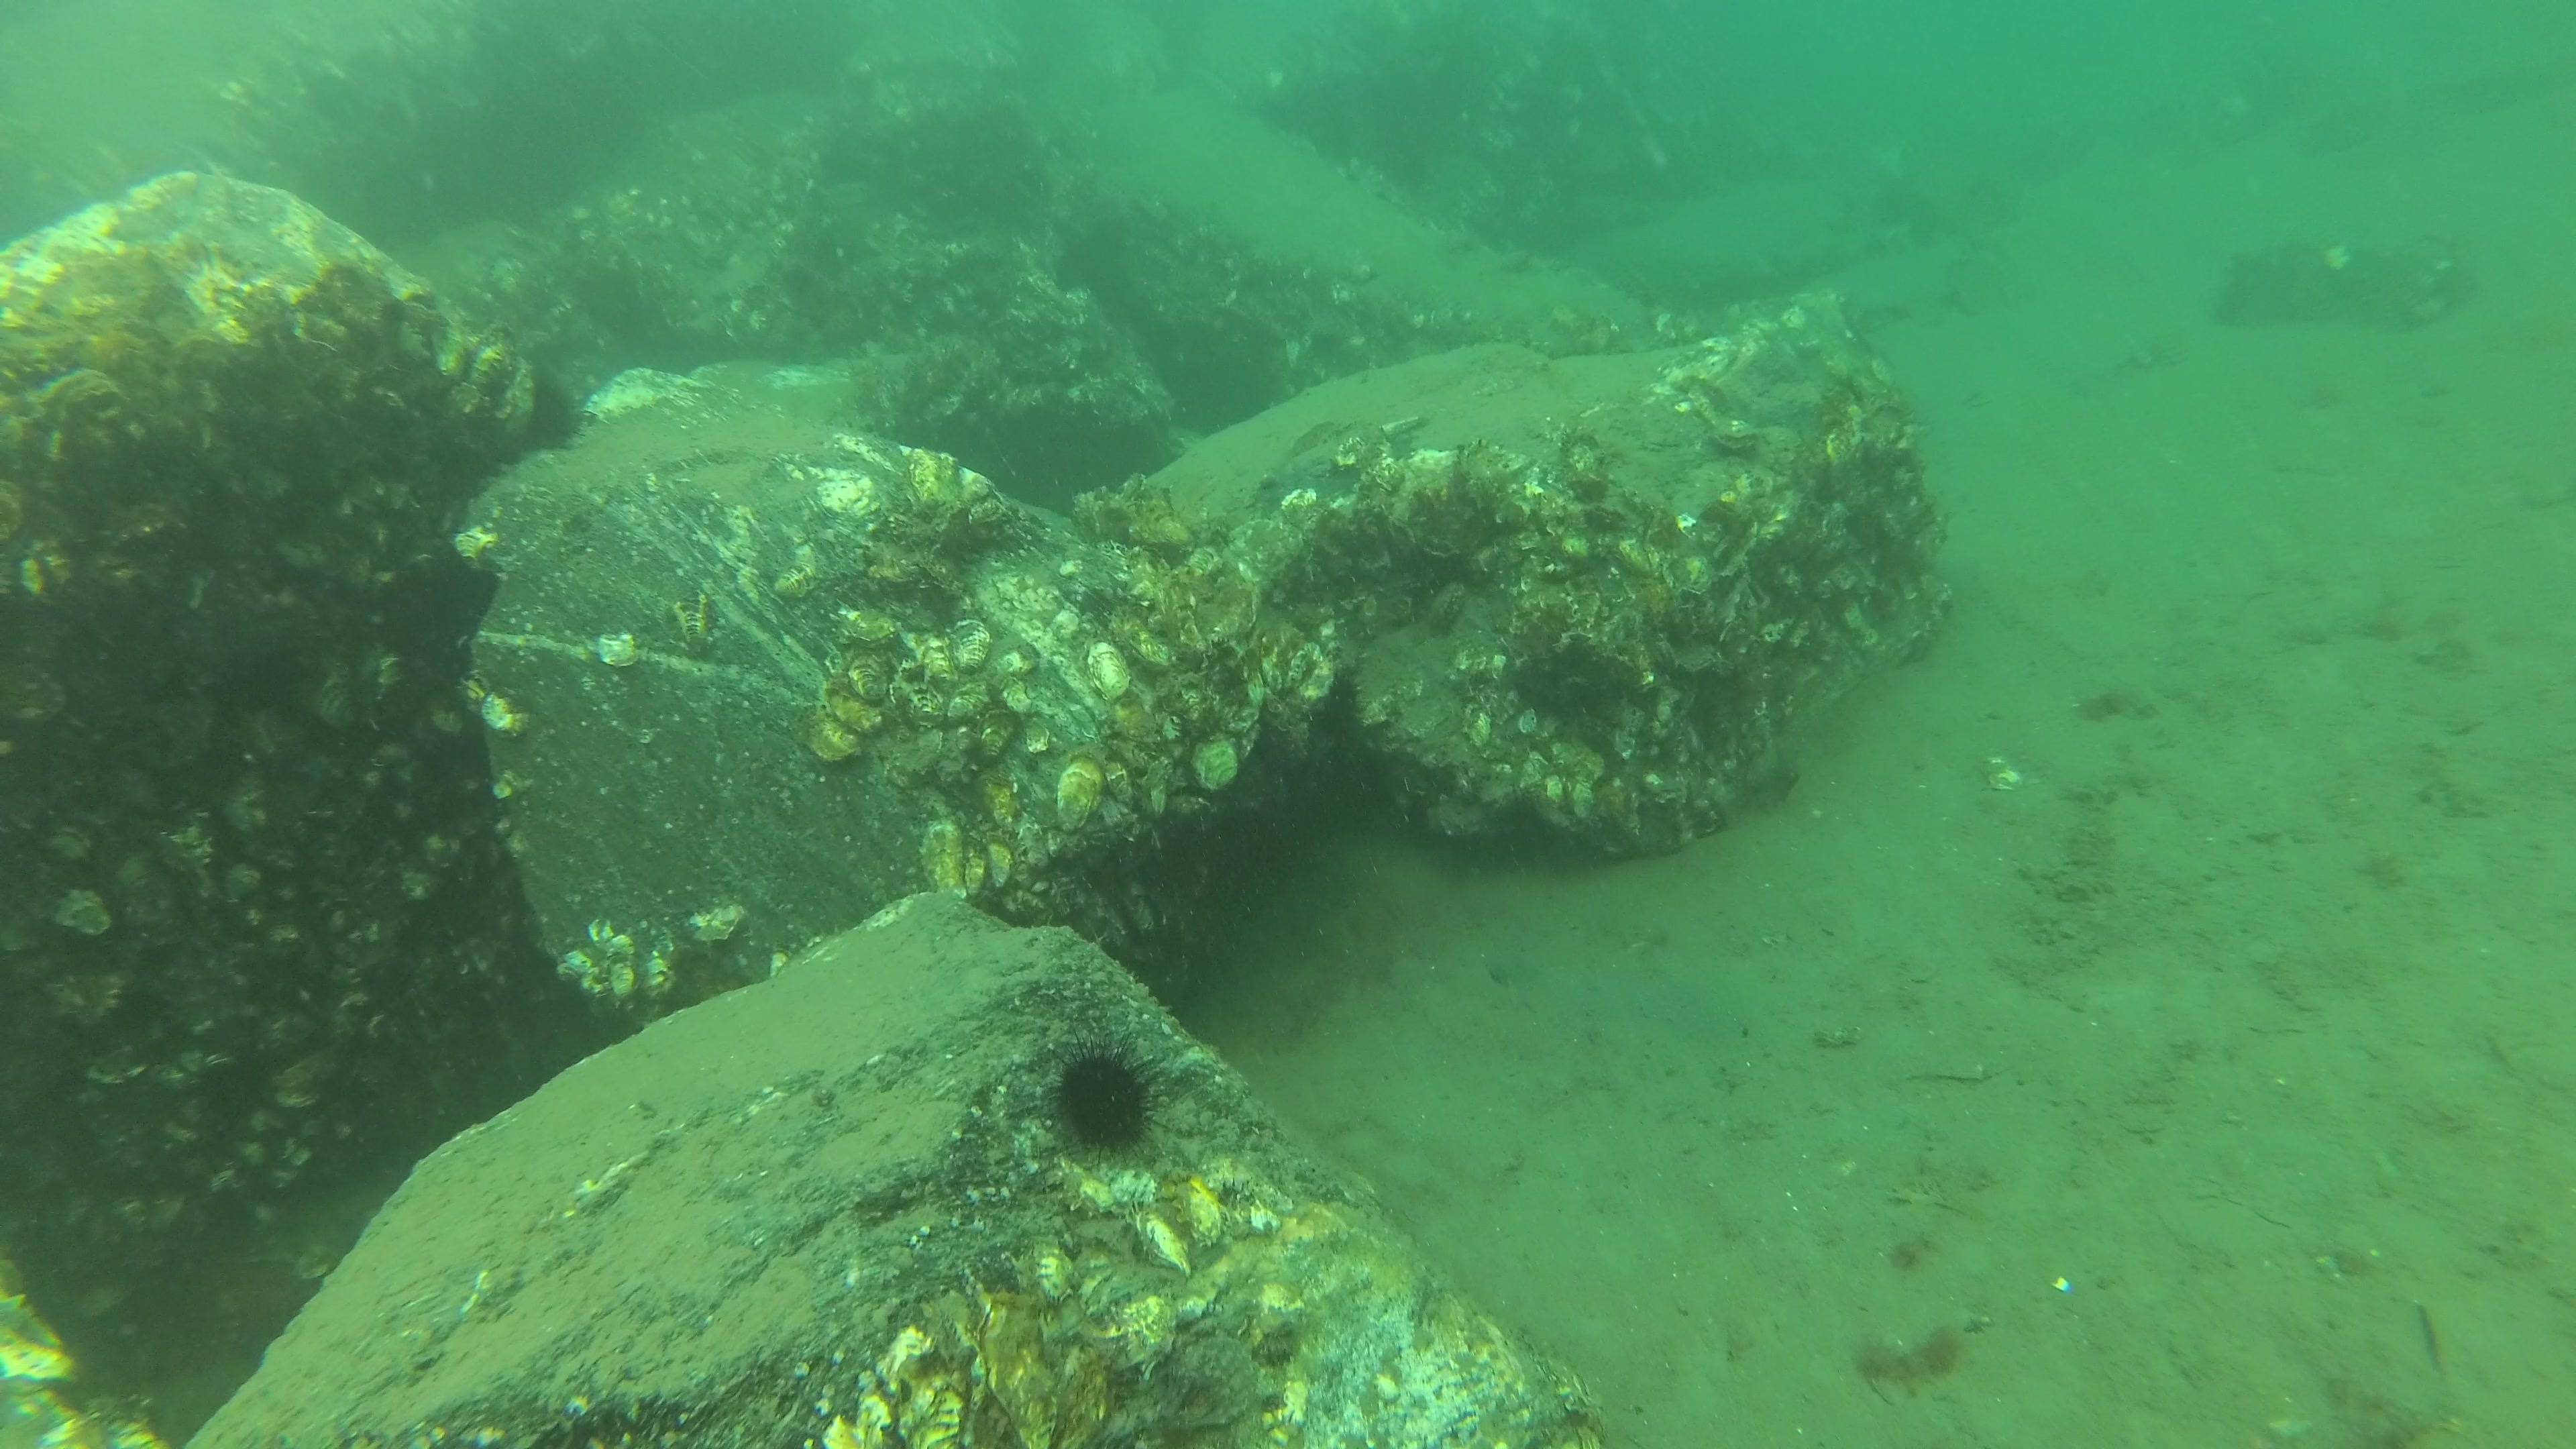echinus: (1040, 1039, 1171, 1166)
